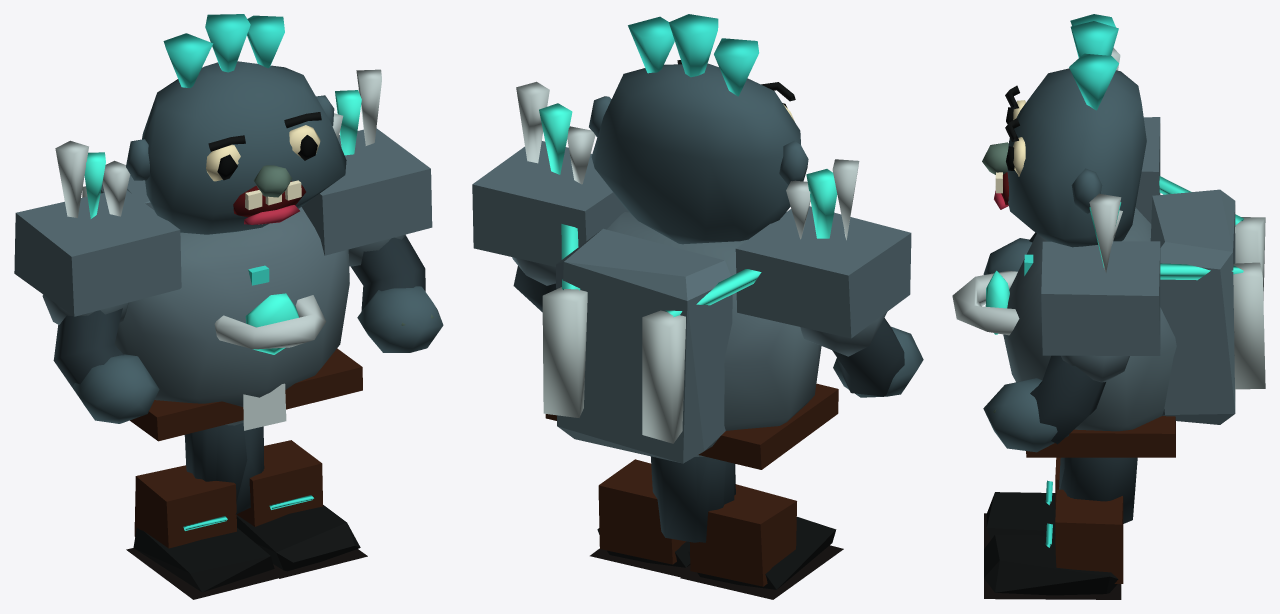
File: overlord-lod.glb
3 renders of one model, left to right at view 1: azimuth 30°, elevation 25°; view 2: azimuth 150°, elevation 25°; view 3: azimuth 270°, elevation 25°, orthographic. The views are drawn at different scales.
Parts seen in each view (by area): view 1: Arms, Body, Head, LegL, LegR; view 2: Body, Arms, Head, LegL, LegR; view 3: Body, Arms, Head, LegR, LegL.
Part boxes in pixels (x1,y1,x2,y2): Arms: (14,69,443,423); Body: (82,175,362,441); Head: (126,14,346,234); LegL: (126,426,281,599); LegR: (184,423,367,578); Body: (542,212,838,469); Arms: (472,81,923,397); Head: (589,14,808,244); LegL: (651,456,843,599); LegR: (590,456,734,577); Body: (952,176,1265,457); Arms: (983,48,1160,452); Head: (982,14,1146,247); LegR: (984,457,1133,599); LegL: (984,457,1137,548).
Bounding box in the file's own units: 0.929 × 1.27 × 0.6822.
Materials: 1 (1 with a texture image).
